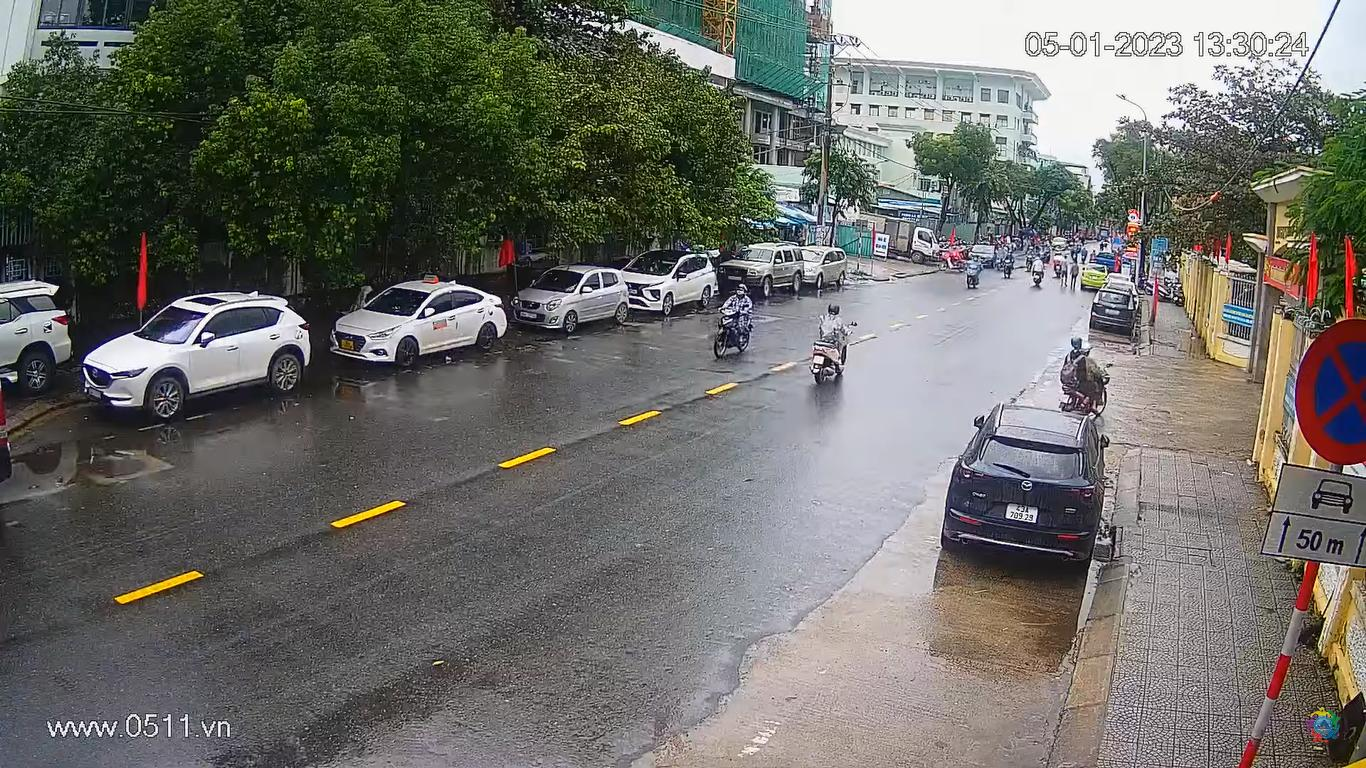car: (82, 286, 318, 425), (941, 403, 1113, 557), (328, 271, 514, 371), (0, 274, 80, 393), (511, 263, 632, 332), (628, 244, 720, 318), (721, 235, 807, 294), (792, 240, 845, 296), (1088, 279, 1138, 331)
motorcycle: (804, 298, 860, 391), (1059, 335, 1115, 417), (709, 282, 758, 364), (1029, 252, 1048, 289), (965, 251, 980, 290), (1002, 246, 1017, 282)
truck: (848, 205, 942, 272)
